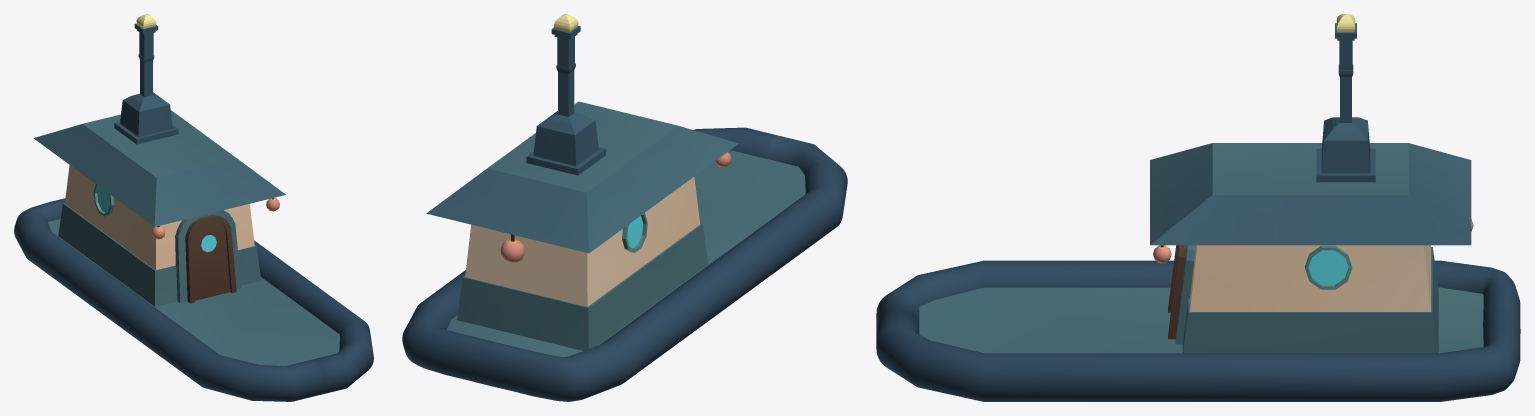
Rendered from ship.fbx.
3 renders of one model, left to right at view 1: azimuth 30°, elevation 25°; view 2: azimuth 150°, elevation 25°; view 3: azimuth 270°, elevation 25°, orthographic. The views are drawn at different scales.
Parts seen in each view (by area): view 1: Cube, Cylinder, Cube.001, Icosphere; view 2: Cube, Cylinder, Icosphere, Icosphere.002; view 3: Cube, Cylinder, Cube.001, Icosphere.
Part boxes in pixels (x1,y1,x2,y2): Cube: (33,14,339,366); Cylinder: (14,198,373,401); Cube.001: (175,210,241,303); Icosphere: (93,184,114,216); Cube: (426,14,805,356); Cylinder: (402,127,847,401); Icosphere: (622,213,647,252); Icosphere.002: (500,152,731,263); Cube: (919,14,1483,353); Cylinder: (876,260,1520,401); Cube.001: (1168,245,1195,344); Icosphere: (1305,245,1352,289).
Bounding box in the file's own units: 608 × 854 × 1471.
Materials: 1 (1 with a texture image).
